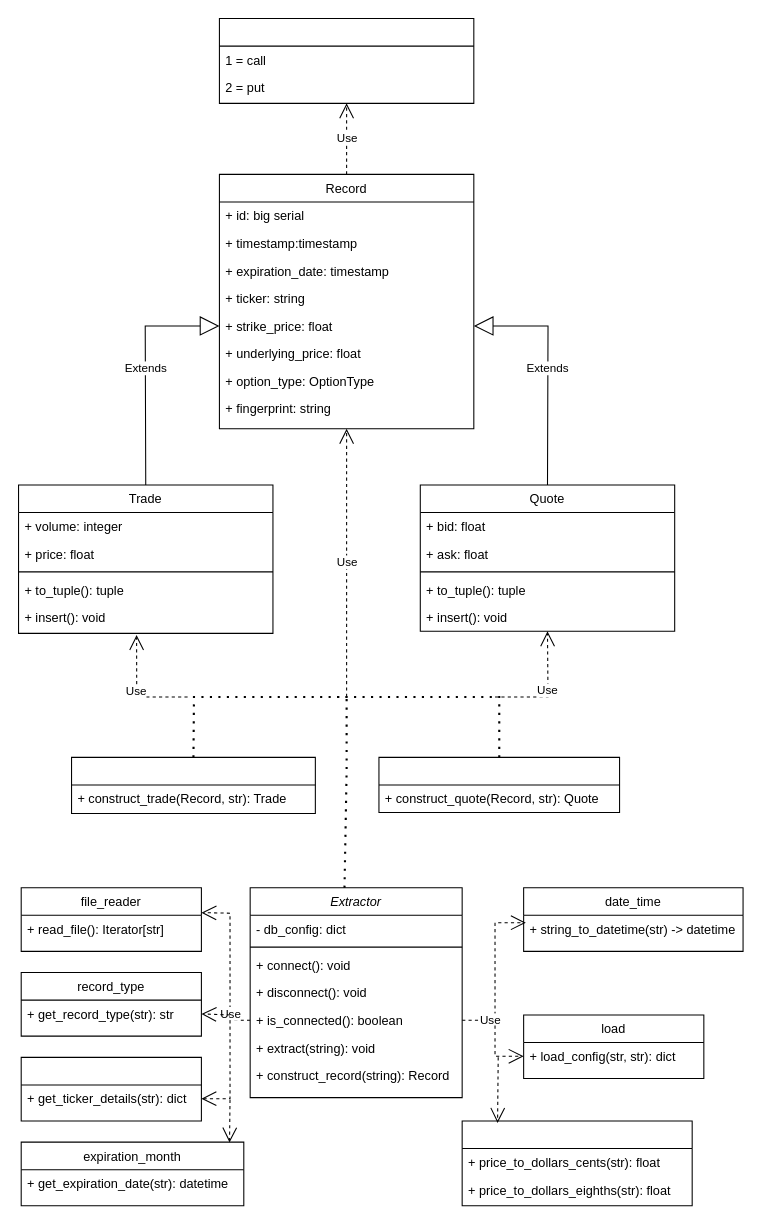
Some shapes in this 762 by 1225 pixel diagram are drawn without their labels. The box of each missing label's shape, as (x1, y1, x2, y2) in pixels:
asset_price: (461, 1120, 692, 1206)
OptionType(enum): (218, 17, 474, 103)
quote_detail: (378, 756, 620, 812)
ticker_conversion: (20, 1056, 201, 1121)
trade_detail: (70, 756, 315, 814)
